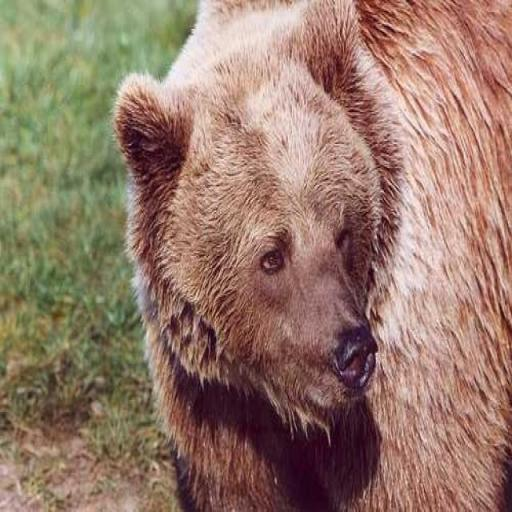Bear: (113, 0, 511, 511)
